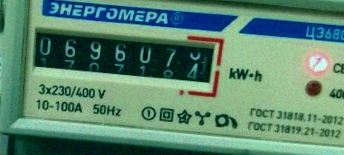0: (136, 41, 153, 64), (36, 34, 52, 56)
4: (184, 59, 199, 81)
6: (61, 35, 77, 58), (111, 40, 127, 62)
7: (161, 46, 178, 68)
9: (86, 38, 101, 60)
screen: (17, 15, 228, 95)
